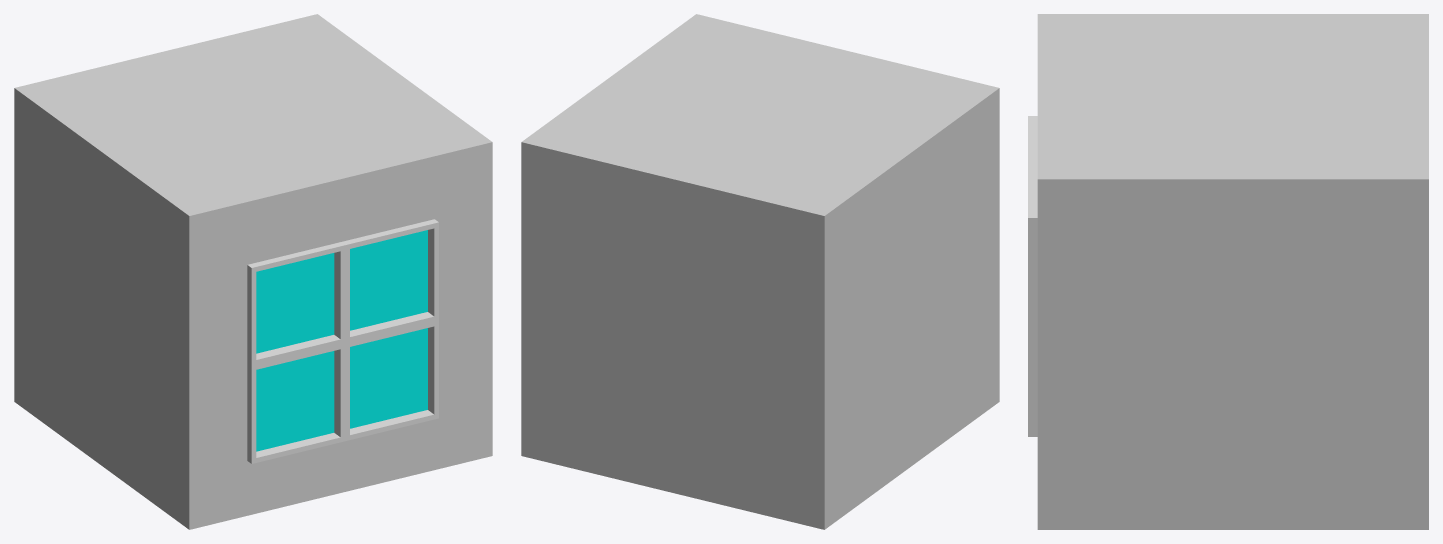
The model's file is BuildingM8.fbx.
The picture shows the model from 3 angles, left to right: view 1: azimuth 30°, elevation 25°; view 2: azimuth 150°, elevation 25°; view 3: azimuth 270°, elevation 25°; orthographic projection. The views are drawn at different scales.
Parts seen in each view (by area): view 1: M8; view 2: M8; view 3: M8.
Boxes of the visible parts, bbox=[...] form: M8: bbox=[14, 14, 492, 529]; M8: bbox=[521, 14, 999, 529]; M8: bbox=[1028, 14, 1428, 529].
Size of the model in its own units: 650 by 643 by 667.
